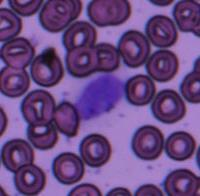L: (74, 72, 125, 121)
